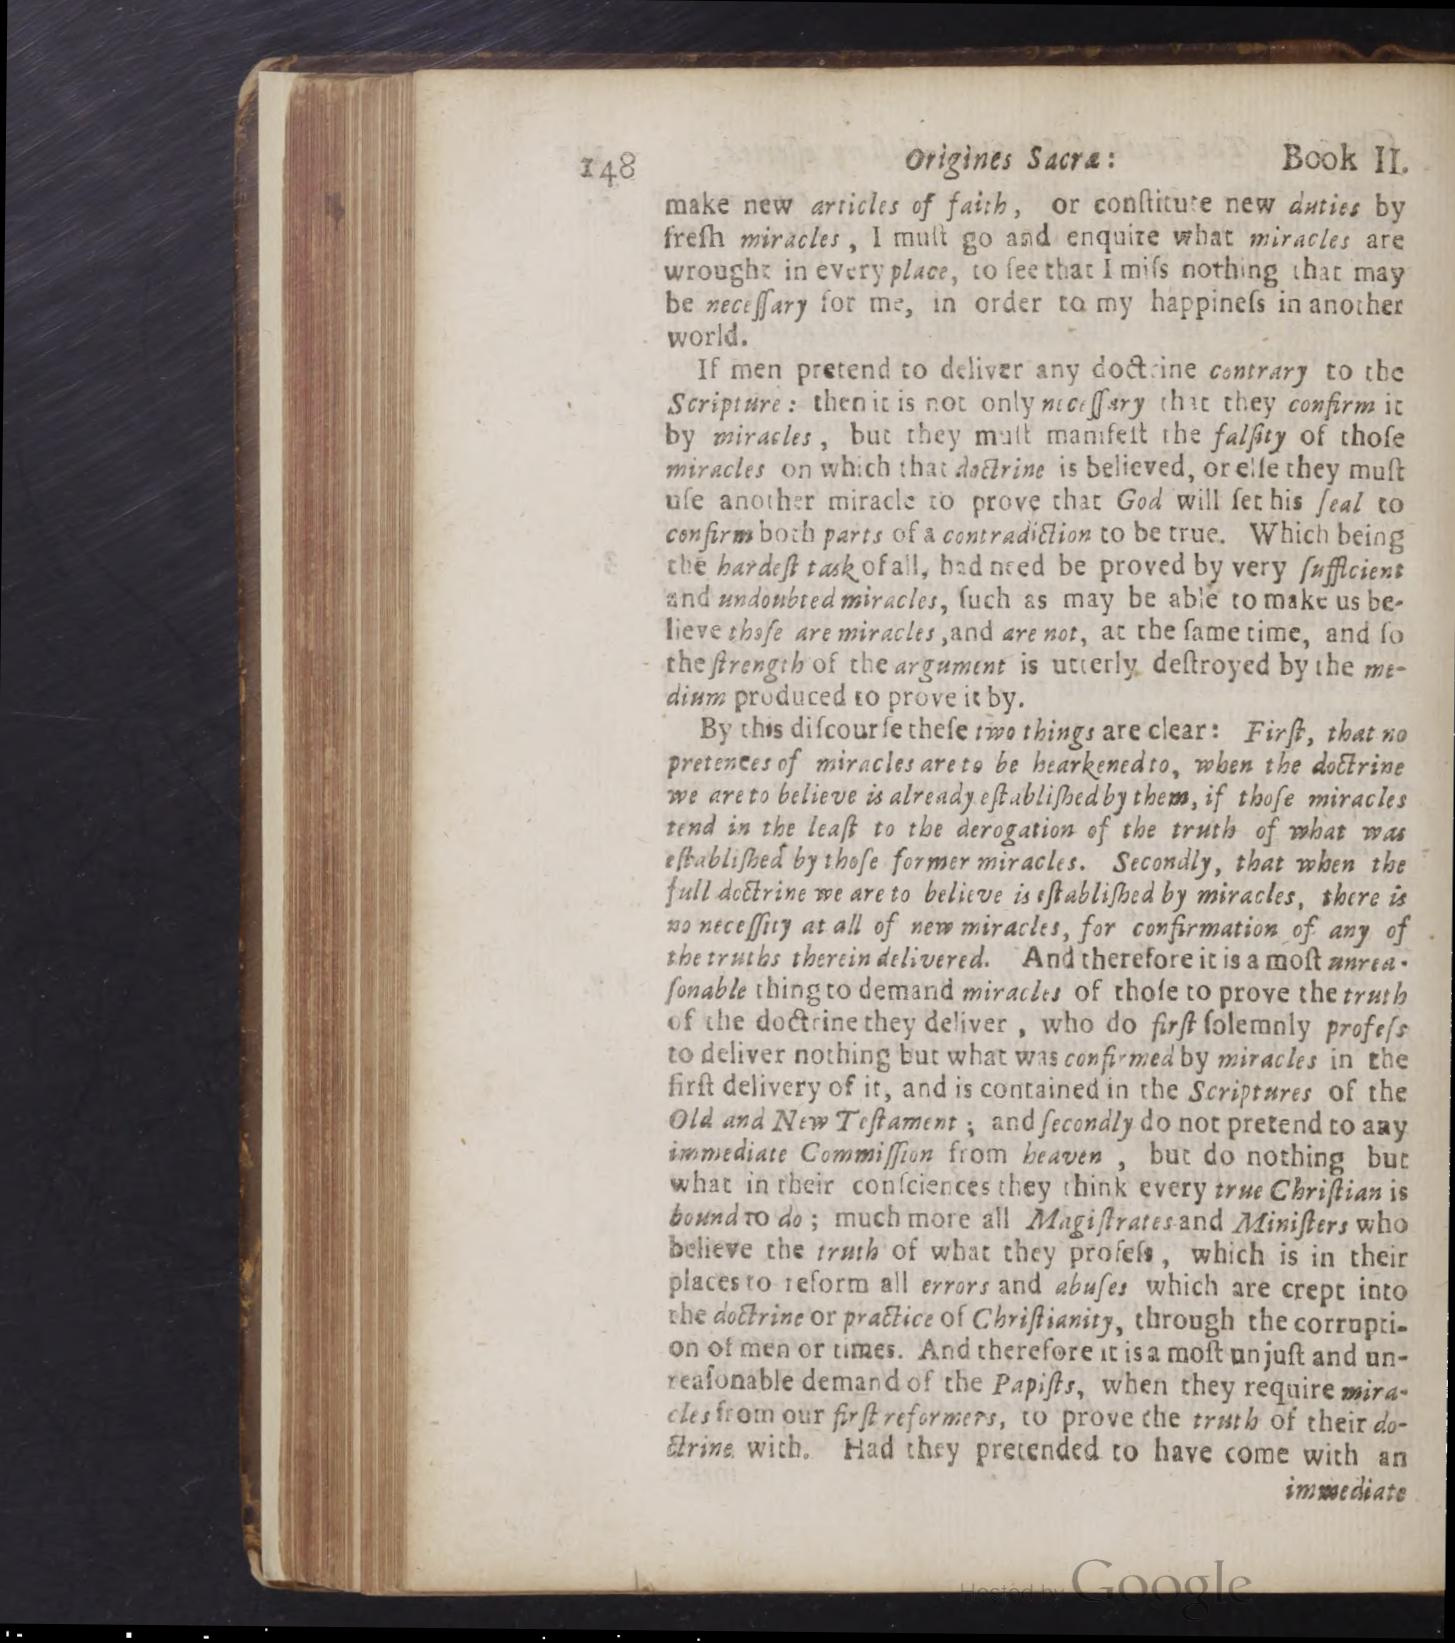bottom_p: (661, 187, 1418, 351)
catchword: (1284, 1472, 1411, 1510)
full_p: (661, 351, 1413, 716)
header: (902, 140, 1414, 180)
page_num: (572, 140, 647, 192)
top_p: (661, 716, 1414, 1470)
